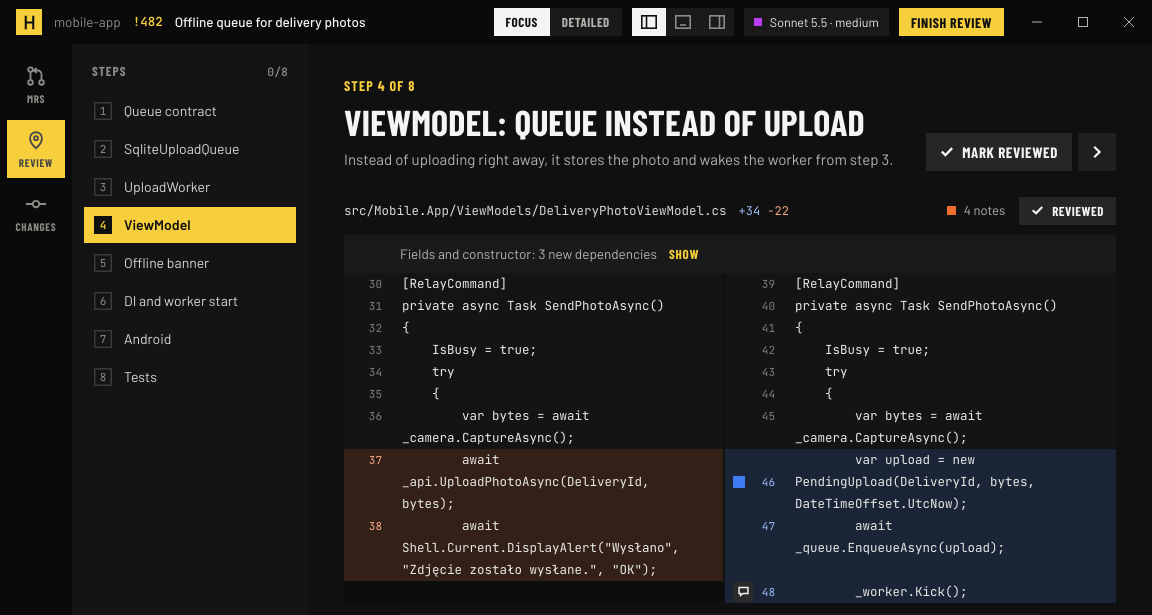
Test case: S-03 line comment composer (F-09.7) › F-09.7 Comment on the selected lines opens the composer under the last line: Comment tag, L50, focused text area, Add to drafts and Cancel
Expected: the text "Step 4 of 8" is shown, [344,77,416,94]
Click the text "47". click: (768, 526)
box: [762,519,775,533]
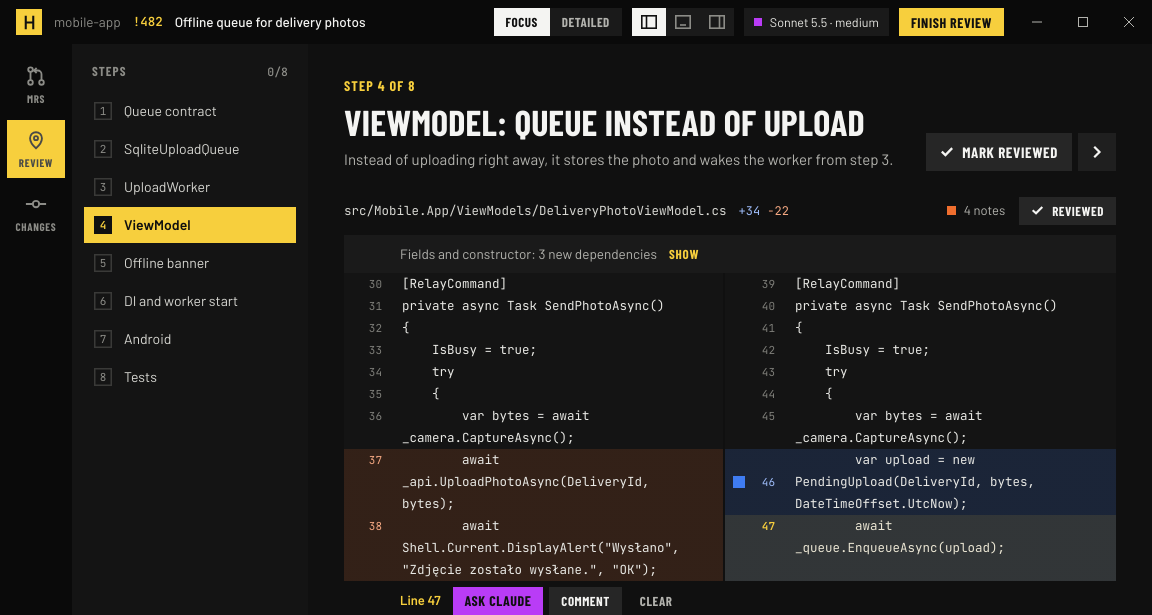
Type keys "{Shift>}"
(page scrolled)
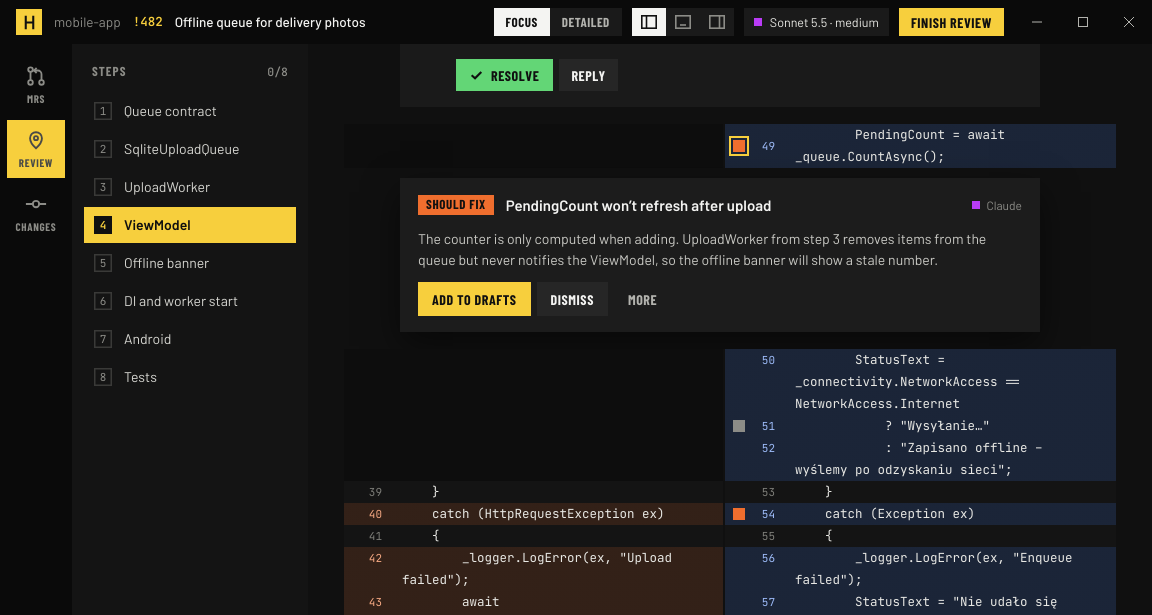
Click the text "50". click: (768, 360)
box: [762,353,775,367]
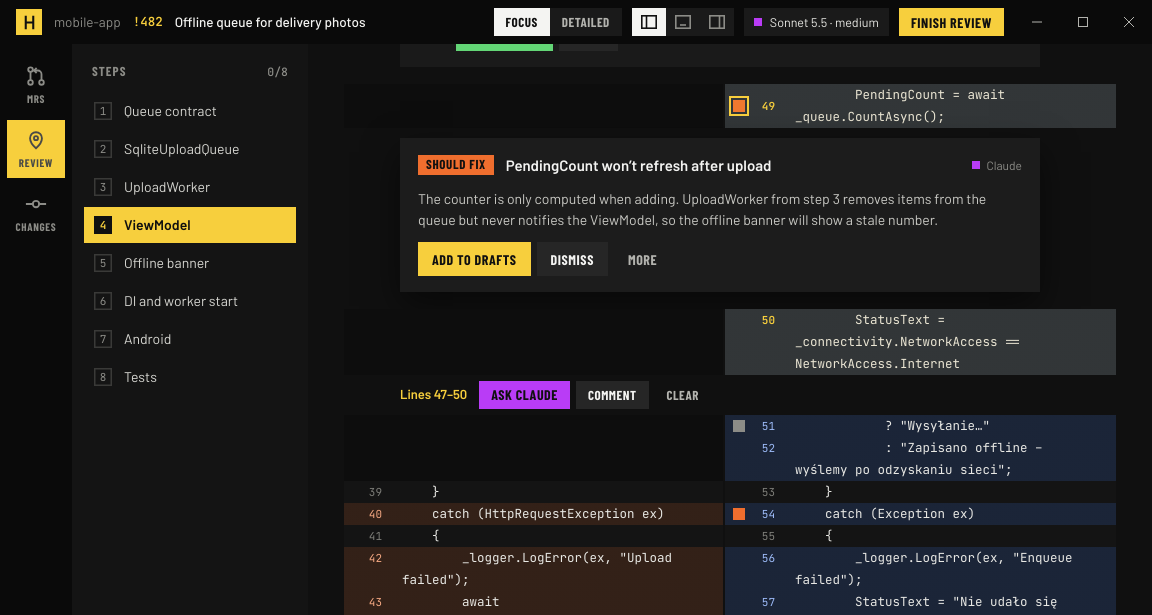
Type keys "{/Shift}"
Click the button "Comment". click: (612, 395)
box: [576,381,648,409]
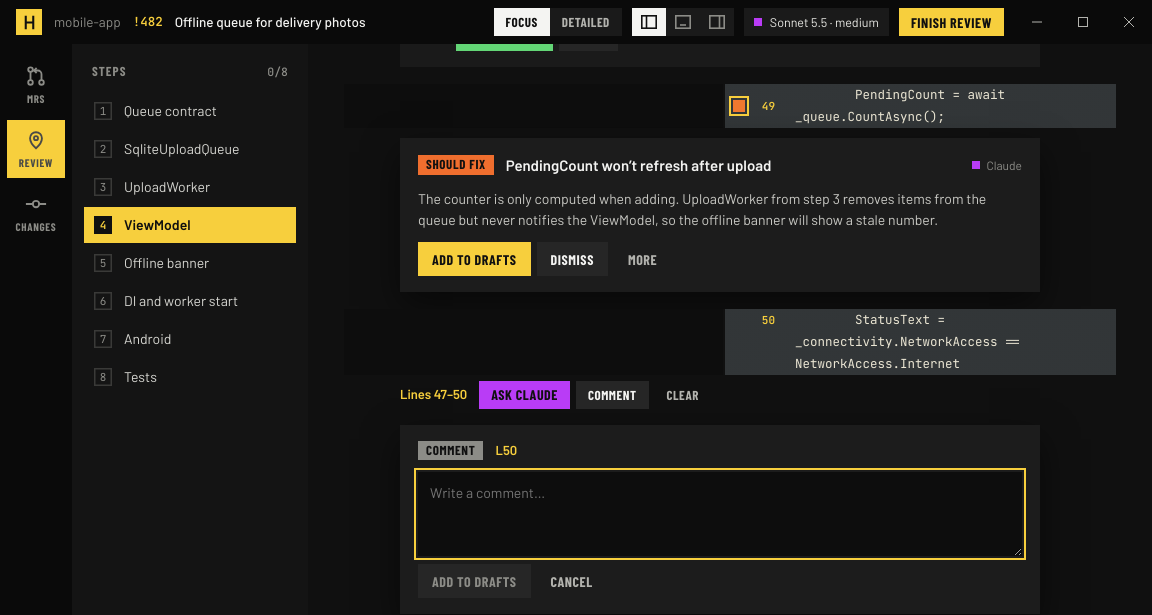
Result: the text "Comment" is shown at [418,441,484,460]
Result: the text "L50" is shown at [496,441,517,460]
Result: the button "Add to drafts" below "L50" is shown at [418,564,531,598]
